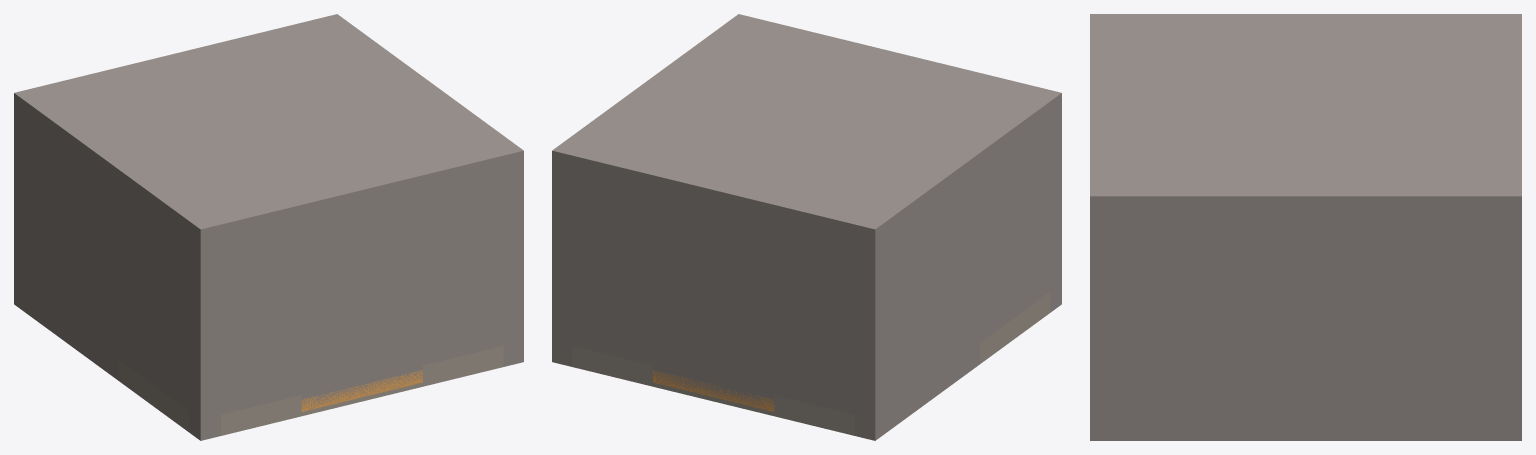
The model's file is river.glb.
3 renders of one model, left to right at view 1: azimuth 30°, elevation 25°; view 2: azimuth 150°, elevation 25°; view 3: azimuth 270°, elevation 25°, orthographic. The views are drawn at different scales.
Parts seen in each view (by area): view 1: rock_8, plug_river_south, rock_1, plug_west, rock_6, rock_4, rock_2, rock_7, plug_river_south.001, cave-floor_1, cave-floor_4, lava_1 (+3 smaller); view 2: rock_8, plug_river_north, rock_1, plug_west, rock_5, rock_2, rock_7, rock_4, plug_river_north.001, cave-floor_1, cave-floor_2, cave-floor_4 (+2 smaller); view 3: rock_2, rock_8.
Boxes of the visible parts, x1,y1,x2,y2 form: rock_8: (14,14,523,250); plug_river_south: (221,198,503,414); rock_1: (14,114,118,380); plug_west: (119,233,188,410); rock_6: (221,177,503,266); rock_4: (189,242,220,440); rock_2: (503,172,523,366); rock_7: (119,191,188,283); plug_river_south.001: (301,365,422,411); cave-floor_1: (221,395,301,435); cave-floor_4: (119,360,188,431); lava_1: (301,370,422,411); rock_8: (552,14,1061,250); plug_river_north: (572,198,854,414); rock_1: (855,174,980,440); plug_west: (980,165,1050,342); rock_5: (572,177,854,266); rock_2: (552,172,572,366); rock_7: (980,123,1050,215); rock_4: (1050,114,1061,312); plug_river_north.001: (653,365,774,410); cave-floor_1: (774,395,854,435); cave-floor_2: (572,346,652,386); cave-floor_4: (980,292,1050,363); rock_2: (1090,221,1521,440); rock_8: (1090,14,1521,220).
Size of the model in its own units: 8 by 5 by 8.
